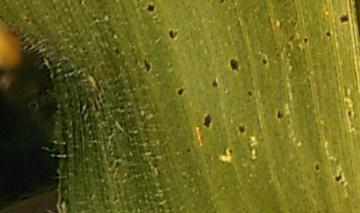tarspot: (228, 57, 239, 72), (337, 13, 350, 25), (202, 114, 212, 128), (142, 59, 151, 73), (145, 3, 156, 14), (236, 124, 246, 135), (176, 86, 185, 98), (168, 29, 177, 40), (335, 169, 342, 182), (276, 109, 285, 119), (210, 78, 218, 88), (314, 161, 321, 172), (346, 108, 353, 118), (302, 36, 309, 44), (261, 58, 268, 66), (246, 90, 253, 98), (113, 47, 120, 55), (184, 147, 192, 154), (227, 148, 234, 155), (325, 29, 331, 37), (217, 1, 226, 5), (77, 1, 83, 6)
